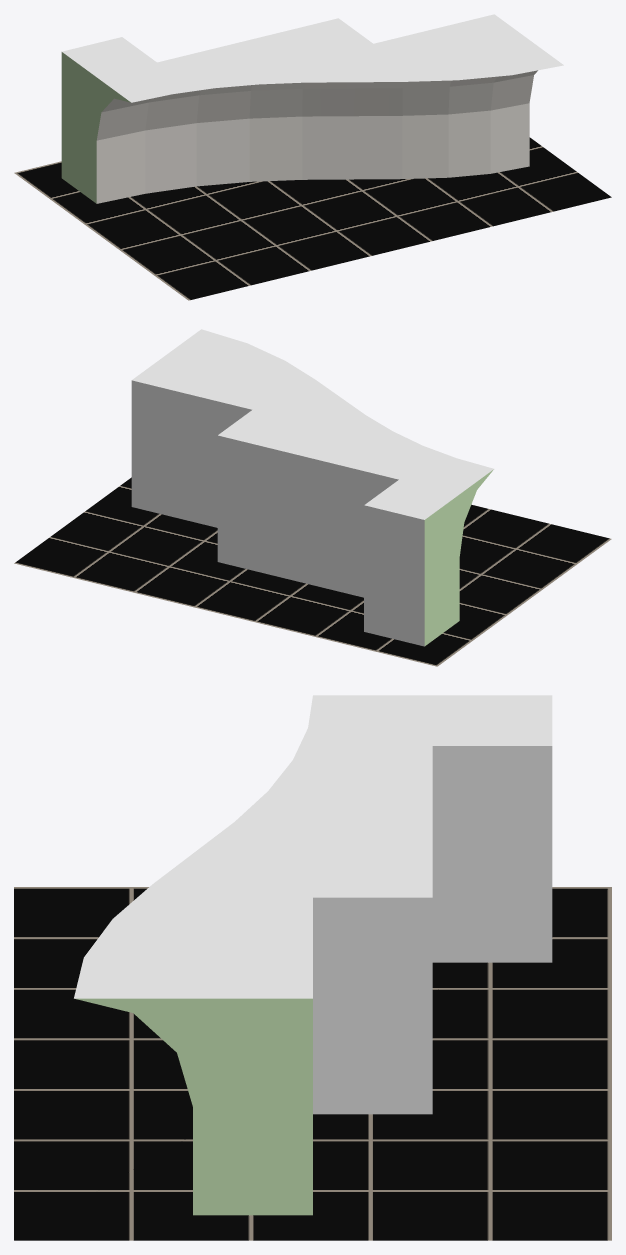
Rendered from Wall_Esse_4x6_Top.glb.
The picture shows the model from 3 angles, top to bottom: view 1: azimuth 30°, elevation 25°; view 2: azimuth 150°, elevation 25°; view 3: azimuth 270°, elevation 25°; orthographic projection. The views are drawn at different scales.
Parts seen in each view (by area): view 1: Wall_Esse_4x6_Top, Floor; view 2: Wall_Esse_4x6_Top, Floor; view 3: Wall_Esse_4x6_Top, Floor.
Part boxes in pixels (x1,y1,x2,y2): Wall_Esse_4x6_Top: (61,14,563,203); Floor: (14,137,611,300); Wall_Esse_4x6_Top: (131,329,493,646); Floor: (14,477,611,666); Wall_Esse_4x6_Top: (74,695,552,1215); Floor: (14,887,611,1240).
Bounding box in the file's own units: 700 × 200 × 500.
5 materials, 1 textured.
